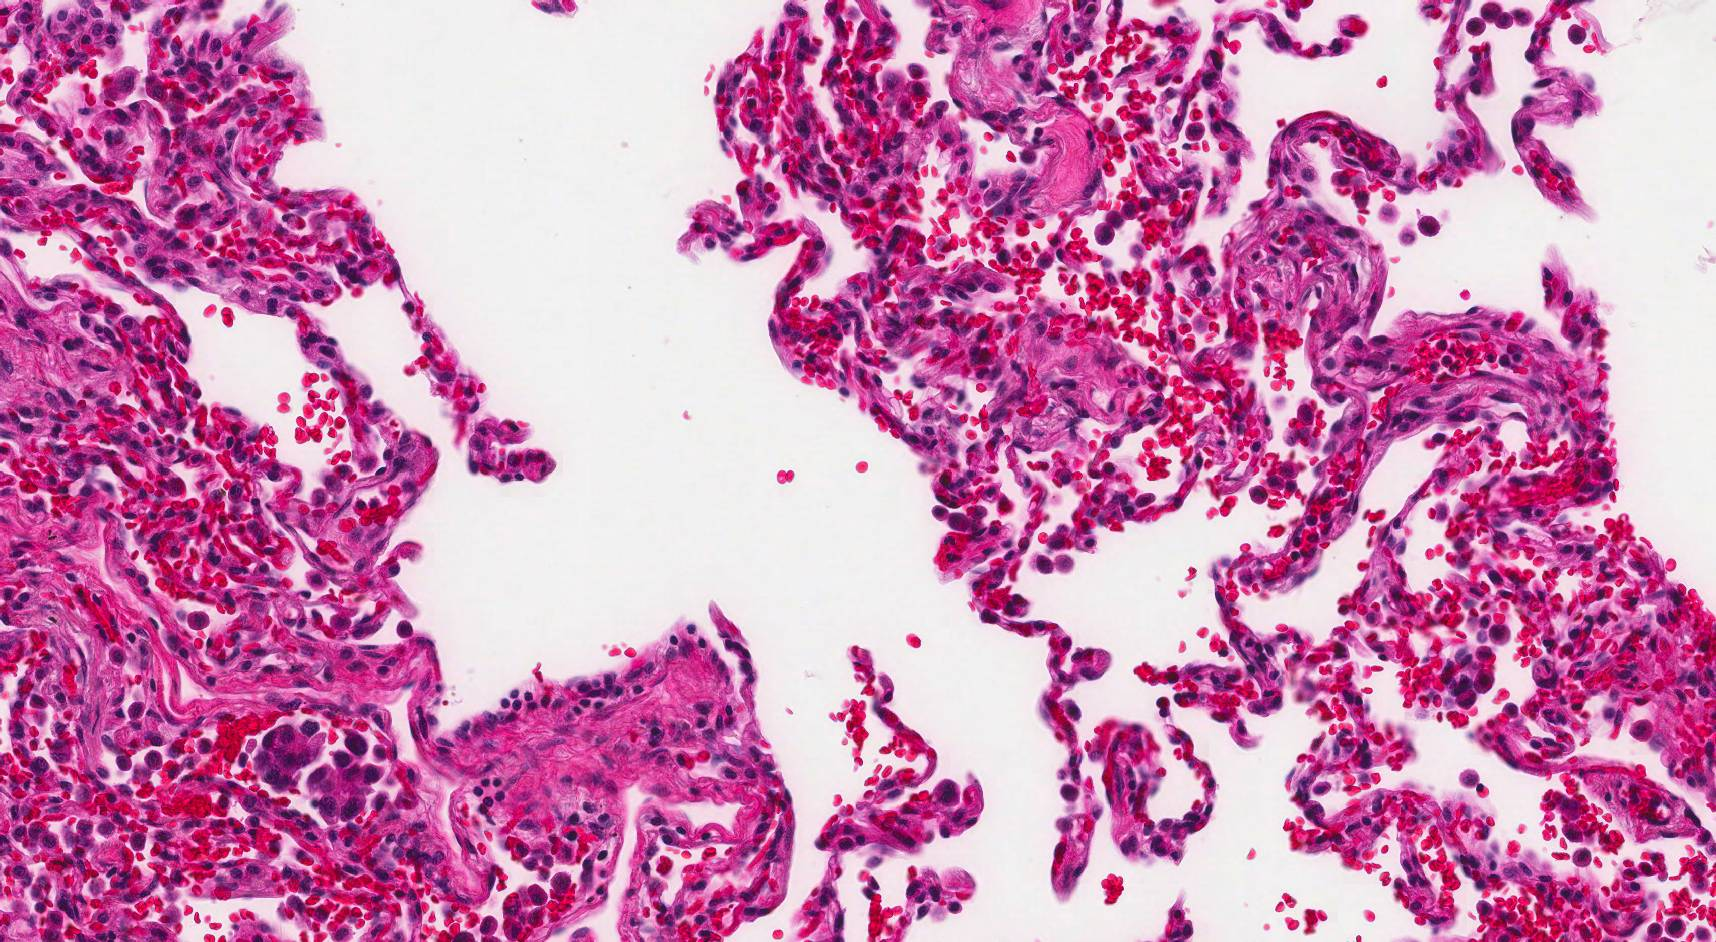stas: (303, 737, 389, 820), (252, 721, 324, 792)
